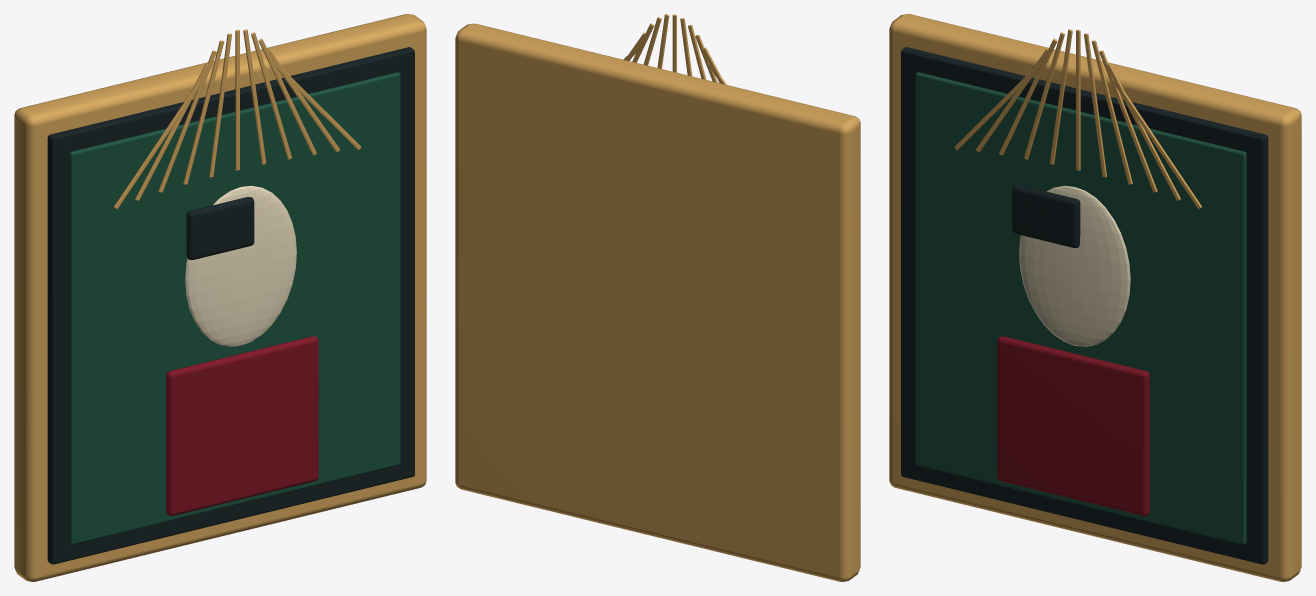
The model's file is secret-portrait.glb.
The picture shows the model from 3 angles, left to right: view 1: azimuth 30°, elevation 25°; view 2: azimuth 150°, elevation 25°; view 3: azimuth 330°, elevation 25°; orthographic projection.
Visible parts, largest first — view 1: Painted panel, Portrait frame, Black inner frame, Velvet dress, Portrait face, Portrait hair, Sunburst gilding.003, Sunburst gilding.004, Sunburst gilding, Sunburst gilding.002, Sunburst gilding.006, Sunburst gilding.005 (+5 smaller); view 2: Portrait frame; view 3: Painted panel, Portrait frame, Black inner frame, Velvet dress, Portrait face, Portrait hair, Sunburst gilding.007, Sunburst gilding.006, Sunburst gilding.008, Sunburst gilding.004, Sunburst gilding.009, Sunburst gilding.010 (+5 smaller).
Part boxes in pixels (x1,y1,x2,y2): Painted panel: (69, 72, 400, 544); Portrait frame: (14, 14, 426, 581); Black inner frame: (47, 47, 414, 564); Velvet dress: (166, 336, 318, 515); Portrait face: (185, 185, 296, 346); Portrait hair: (186, 197, 254, 259); Sunburst gilding.003: (183, 40, 224, 184); Sunburst gilding.004: (209, 33, 231, 177); Sunburst gilding: (114, 81, 202, 209); Sunburst gilding.002: (158, 50, 216, 192); Sunburst gilding.006: (243, 29, 266, 164); Sunburst gilding.005: (235, 29, 239, 170); Portrait frame: (455, 23, 860, 581); Painted panel: (915, 72, 1246, 544); Portrait frame: (889, 14, 1301, 581); Black inner frame: (901, 47, 1268, 564); Velvet dress: (997, 336, 1149, 515); Portrait face: (1019, 185, 1130, 346); Portrait hair: (1012, 185, 1080, 247); Sunburst gilding.007: (1091, 40, 1132, 184); Sunburst gilding.006: (1084, 33, 1106, 177); Sunburst gilding.008: (1099, 50, 1157, 192); Sunburst gilding.004: (1049, 29, 1072, 164); Sunburst gilding.009: (1107, 63, 1180, 200); Sunburst gilding.010: (1113, 81, 1201, 209).
Bounding box in the file's own units: 1.8 × 2.2 × 0.28.
